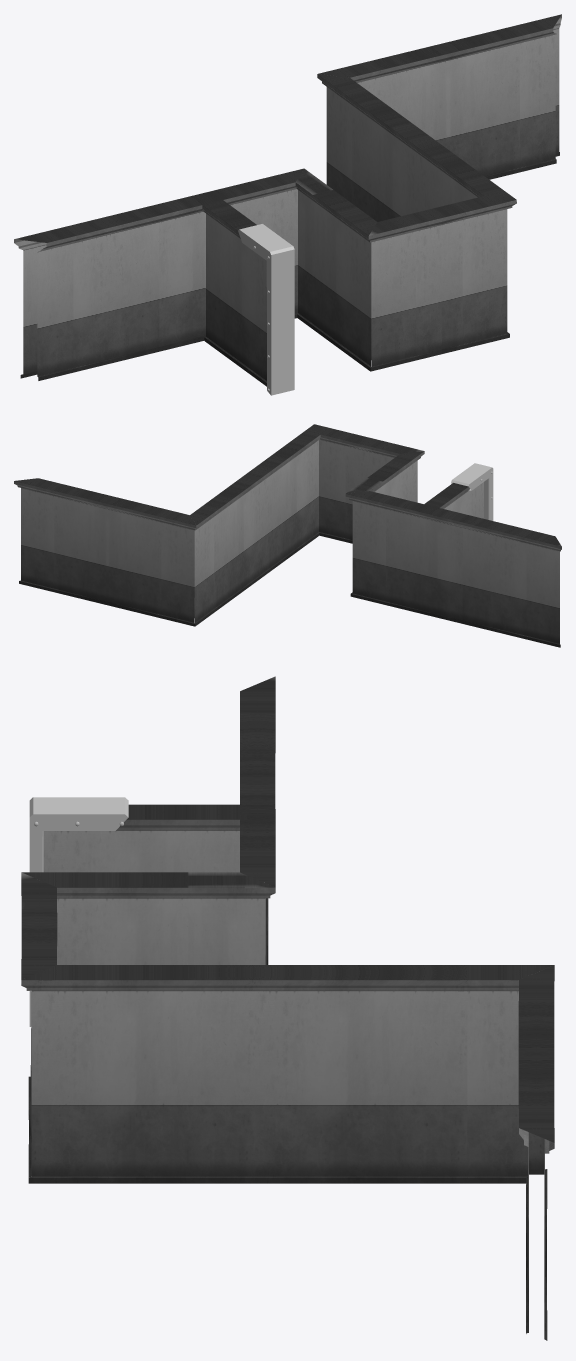
Rendered from Walls.fbx.
3 renders of one model, top to bottom at view 1: azimuth 30°, elevation 25°; view 2: azimuth 150°, elevation 25°; view 3: azimuth 270°, elevation 25°, orthographic. The views are drawn at different scales.
Visible parts, largest first — view 1: Wall4, Wall3, Wall2, Wall1, Wall5, Wall6, Corner1; view 2: Wall4, Wall3, Wall1, Wall2, Wall5, Wall6, Corner1; view 3: Wall1, Wall5, Wall6, Wall4, Wall3, Corner1, Wall2.
Boxes of the visible parts, x1,y1,x2,y2 form: Wall4: [14, 168, 303, 380]; Wall3: [318, 14, 561, 179]; Wall2: [368, 196, 516, 371]; Wall1: [317, 74, 515, 333]; Wall5: [295, 168, 377, 371]; Wall6: [202, 198, 266, 386]; Corner1: [238, 224, 294, 395]; Wall4: [345, 491, 561, 647]; Wall3: [14, 478, 196, 626]; Wall1: [190, 424, 320, 626]; Wall2: [314, 424, 423, 543]; Wall5: [346, 451, 424, 593]; Wall6: [423, 482, 483, 518]; Corner1: [451, 463, 493, 520]; Wall1: [21, 965, 553, 1183]; Wall5: [22, 872, 275, 1076]; Wall6: [43, 804, 246, 872]; Wall4: [240, 676, 275, 964]; Wall3: [518, 965, 554, 1340]; Corner1: [29, 797, 128, 1026]; Wall2: [21, 872, 57, 1177].
Size of the model in its own units: 14.5 by 3.08 by 7.
